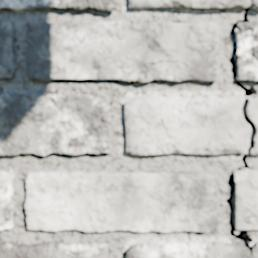brick: (28, 20, 218, 82), (25, 171, 217, 232), (0, 94, 110, 154), (0, 242, 108, 257), (234, 170, 257, 228), (235, 22, 257, 80), (0, 0, 114, 10), (0, 21, 15, 78), (0, 170, 13, 229)
broken_brick: (123, 93, 249, 155), (126, 241, 257, 257), (128, 0, 257, 11), (248, 95, 257, 126), (249, 135, 257, 154)
crack: (224, 2, 257, 255), (138, 5, 164, 8), (210, 188, 219, 196)
